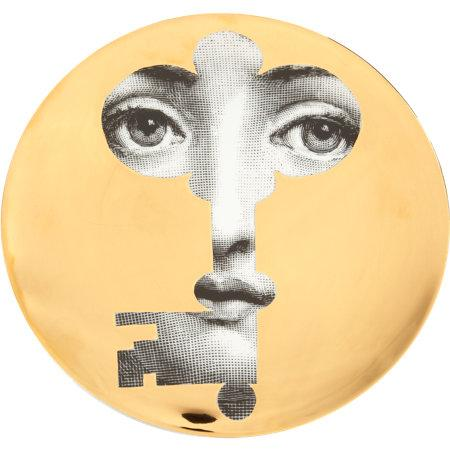person: (89, 39, 364, 427)
